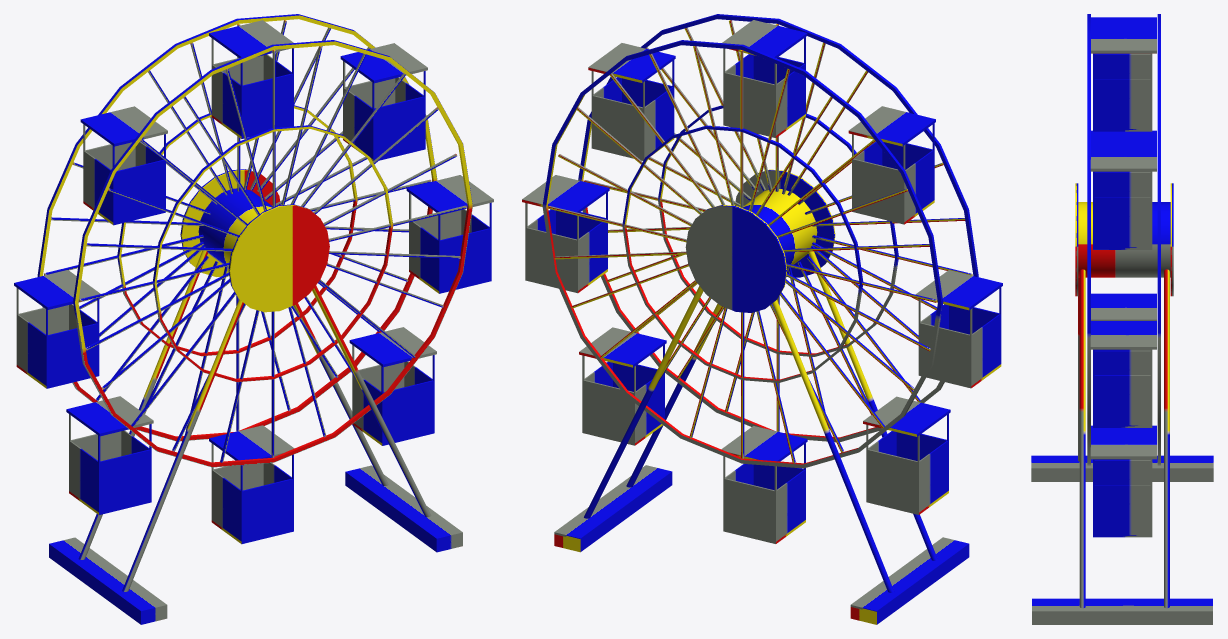
File: FerrisWheel.obj
3 views of the same model, side by side, from view 1: azimuth 30°, elevation 25°; view 2: azimuth 150°, elevation 25°; view 3: azimuth 270°, elevation 25° (orthographic).
Parts seen in each view (by area): view 1: pasted__pasted__pasted__group24_pasted__group7_pasted__pasted__p, pasted__pasted__group24_pasted__group7_pasted__pasted__pCube1 pa, pasted__pCylinder2 group26, pasted__pasted__pCube4 pasted__group32 group44, pasted__pasted__pCube4 pasted__group32 group36, pasted__pasted__pCube4 pasted__group32 group38, pasted__pCube4 group32, pasted__pasted__pCube4 pasted__group32 group37, pasted__pasted__pCube4 pasted__group32 group39, pasted__pasted__group24 pasted__group25 group30 pasted__pasted__, pasted__pasted__pCube4 pasted__group32 group35, pasted__pasted__pCube4 pasted__group32 group40 (+11 smaller); view 2: pasted__pasted__group24_pasted__group7_pasted__pasted__pCube1 pa, pasted__pasted__pasted__group24_pasted__group7_pasted__pasted__p, pCylinder2, pasted__pasted__pCube4 pasted__group32 group44, pasted__pasted__pCube4 pasted__group32 group36, pasted__pasted__pCube4 pasted__group32 group38, pasted__pCube4 group32, pasted__pasted__pCube4 pasted__group32 group39, pasted__pasted__pasted__pPipe1 pasted__pasted__group1 pasted__gr, pasted__pasted__pCube4 pasted__group32 group35, pasted__pasted__pCube4 pasted__group32 group37, pasted__pasted__pCube4 pasted__group32 group40 (+11 smaller); view 3: pasted__pasted__pCube4 pasted__group32 group39, pasted__pasted__pCube4 pasted__group32 group40, pasted__pasted__pCube4 pasted__group32 group35, pasted__pasted__pCube4 pasted__group32 group37, pasted__pCube1 group34, pCylinder1, pCube1, group34 pasted__group28 pasted__pasted__pasted__pCylinder3 paste, group34 pasted__pasted__pCylinder3 pasted__group28, pasted__pasted__pCube4 pasted__group32 group44, pasted__pasted__pasted__pPipe1 pasted__pasted__group1 pasted__gr, pasted__pasted__group24 pasted__group25 group30 pasted__pasted__ (+6 smaller).
Part boxes in pixels (<box>): pasted__pasted__pasted__group24_pasted__group7_pasted__pasted__p: <box>79,46,466,462</box>; pasted__pasted__group24_pasted__group7_pasted__pasted__pCube1 pa: <box>44,20,431,432</box>; pasted__pCylinder2 group26: <box>228,204,329,312</box>; pasted__pasted__pCube4 pasted__group32 group44: <box>66,396,153,514</box>; pasted__pasted__pCube4 pasted__group32 group36: <box>209,425,294,544</box>; pasted__pasted__pCube4 pasted__group32 group38: <box>14,270,100,388</box>; pasted__pCube4 group32: <box>80,106,167,225</box>; pasted__pasted__pCube4 pasted__group32 group37: <box>406,175,493,293</box>; pasted__pasted__pCube4 pasted__group32 group39: <box>340,43,427,161</box>; pasted__pasted__group24 pasted__group25 group30 pasted__pasted__: <box>73,40,472,467</box>; pasted__pasted__pCube4 pasted__group32 group35: <box>209,20,293,138</box>; pasted__pasted__pCube4 pasted__group32 group40: <box>349,327,436,445</box>; pasted__pasted__group24_pasted__group7_pasted__pasted__pCube1 pa: <box>548,46,936,463</box>; pasted__pasted__pasted__group24_pasted__group7_pasted__pasted__p: <box>584,20,972,431</box>; pCylinder2: <box>685,205,787,312</box>; pasted__pasted__pCube4 pasted__group32 group44: <box>863,396,950,514</box>; pasted__pasted__pCube4 pasted__group32 group36: <box>721,426,807,543</box>; pasted__pasted__pCube4 pasted__group32 group38: <box>915,270,1002,388</box>; pasted__pCube4 group32: <box>848,106,935,224</box>; pasted__pasted__pCube4 pasted__group32 group39: <box>588,43,675,160</box>; pasted__pasted__pasted__pPipe1 pasted__pasted__group1 pasted__gr: <box>542,40,943,468</box>; pasted__pasted__pCube4 pasted__group32 group35: <box>722,20,807,137</box>; pasted__pasted__pCube4 pasted__group32 group37: <box>522,175,609,293</box>; pasted__pasted__pCube4 pasted__group32 group40: <box>579,327,666,445</box>; pasted__pasted__pCube4 pasted__group32 group39: <box>1090,142,1156,249</box>; pasted__pasted__pCube4 pasted__group32 group40: <box>1090,430,1156,537</box>; pasted__pasted__pCube4 pasted__group32 group35: <box>1091,24,1156,131</box>; pasted__pasted__pCube4 pasted__group32 group37: <box>1090,321,1156,427</box>; pasted__pCube1 group34: <box>1032,598,1212,624</box>; pCylinder1: <box>1078,202,1170,277</box>; pCube1: <box>1031,455,1213,481</box>; group34 pasted__group28 pasted__pasted__pasted__pCylinder3 paste: <box>1079,269,1085,608</box>; group34 pasted__pasted__pCylinder3 pasted__group28: <box>1164,269,1169,608</box>; pasted__pasted__pCube4 pasted__group32 group44: <box>1091,293,1156,350</box>; pasted__pasted__pasted__pPipe1 pasted__pasted__group1 pasted__gr: <box>1157,14,1160,465</box>; pasted__pasted__group24 pasted__group25 group30 pasted__pasted__: <box>1087,14,1090,465</box>.
Bounding box in the file's own units: 17.02 × 18.9 × 6.09.
